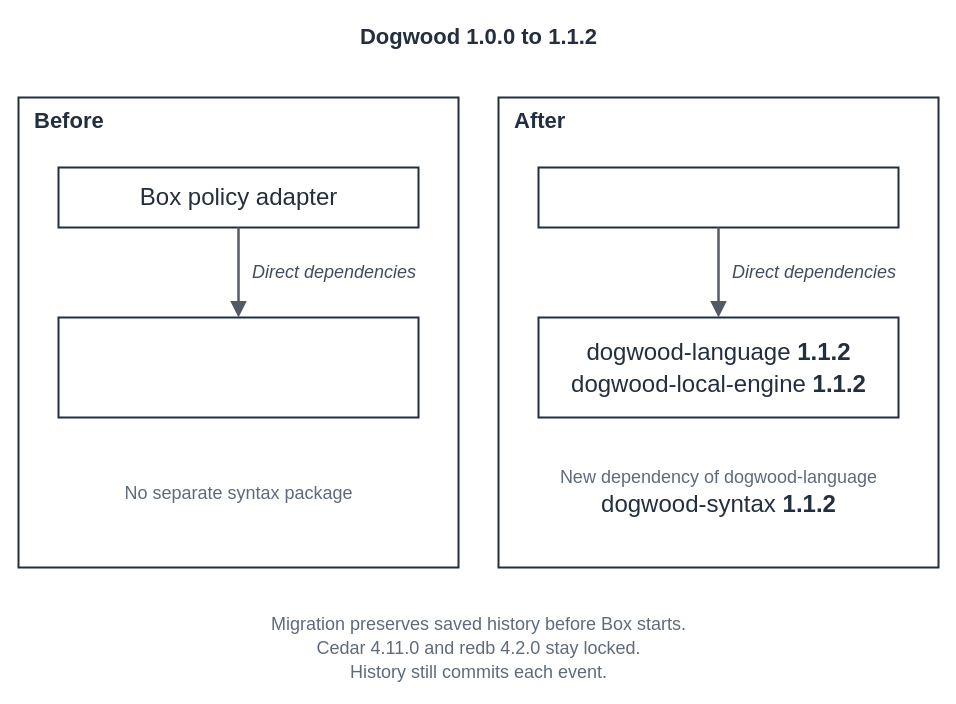
The diagram is 956 pixels wide and 704 high, and some of its shapes have lost their labels. The shapes that lost their labels are listed below. From the top down, each one's box as (x1, y1, x2, y2) in pixels, then its label:
(537, 166, 899, 228): Box policy adapter with explicit migration
(57, 316, 419, 418): dogwood-language 1.0.0 dogwood-local-engine 1.0.0
